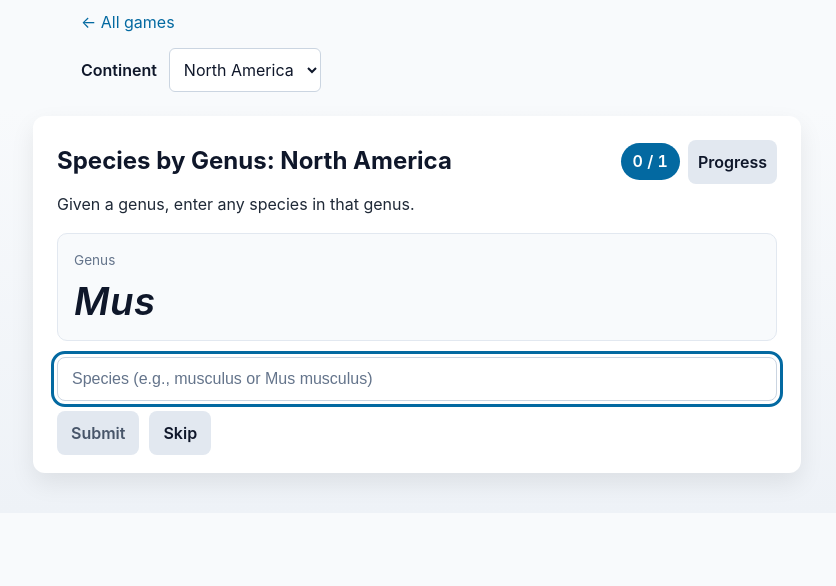
species answers are restricted within a genus, including full binomials
Type "Mus caroli" into the field labelled "Species".
click(417, 379); type("Mus caroli")  # box [57,357,777,401]
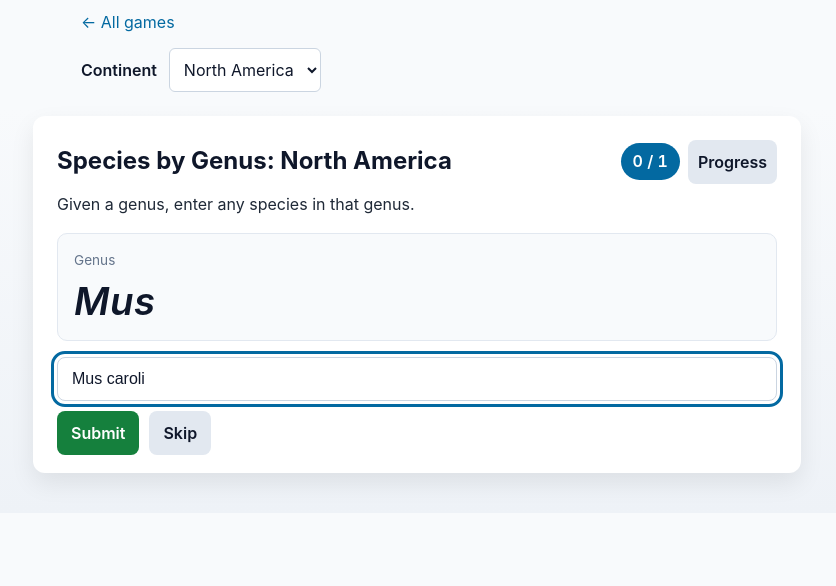
Click the button "Submit".
click(98, 433)  # box [57,411,139,455]
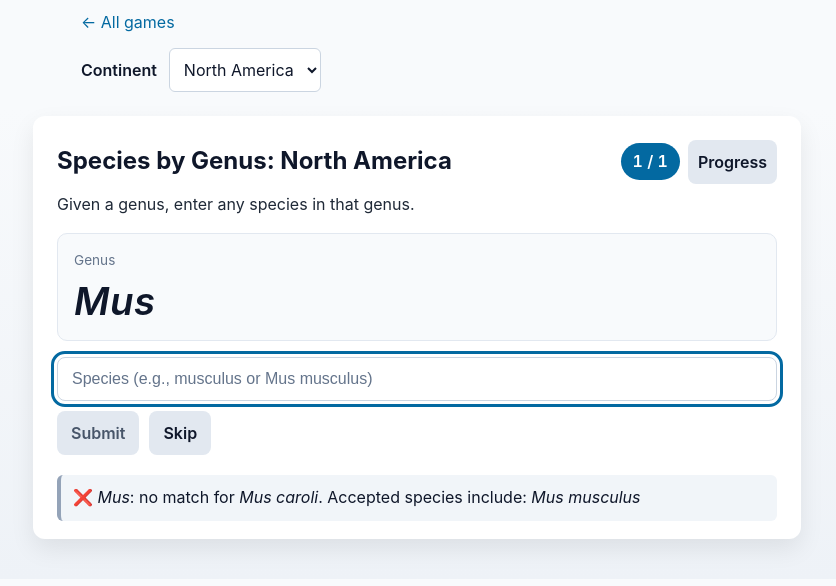
Expected: the text titled "Finished / Total" reads "1 / 1", [620,143,680,180]
Type "Mus musculus" into the field labelled "Species".
click(417, 379); type("Mus musculus")  # box [57,357,777,401]
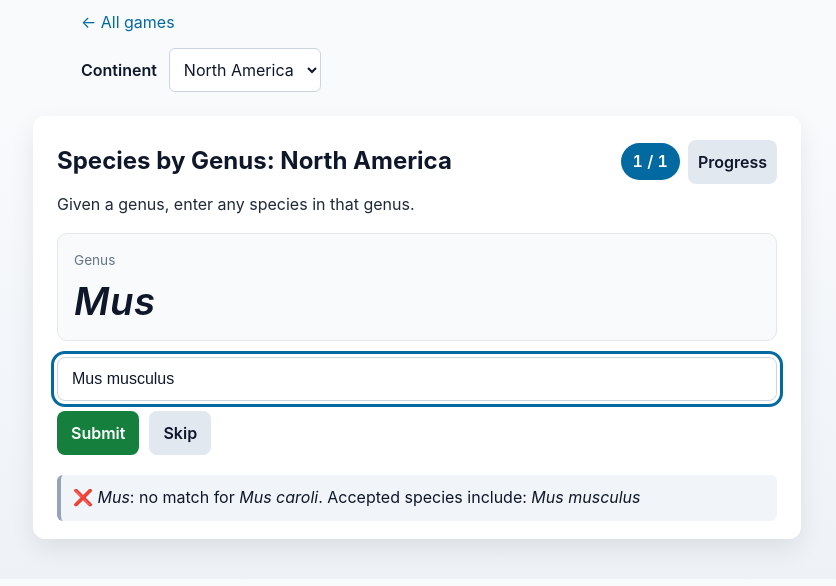
Click the button "Submit".
click(98, 433)  # box [57,411,139,455]
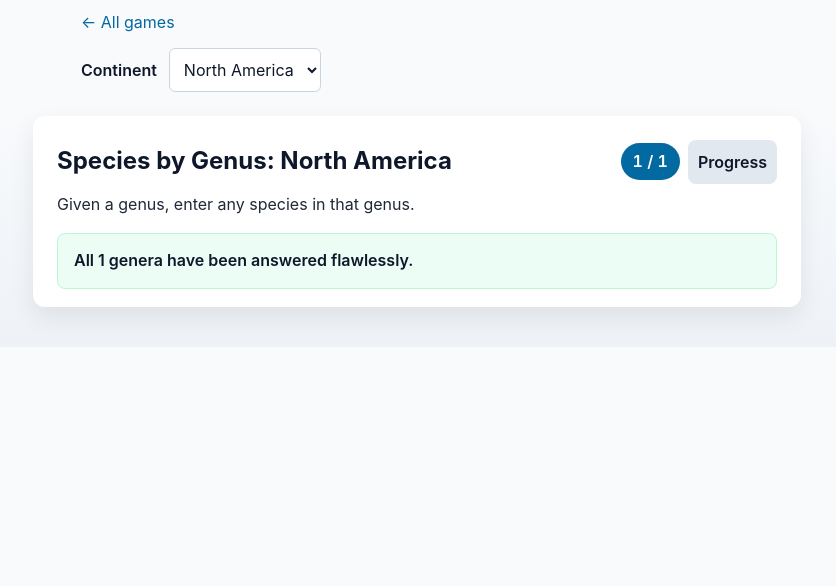
Expected: the text titled "Finished / Total" reads "1 / 1", [620,143,680,180]
Expected: the text "All 1 genera have been answered flawlessly." is shown, [57,233,777,289]
